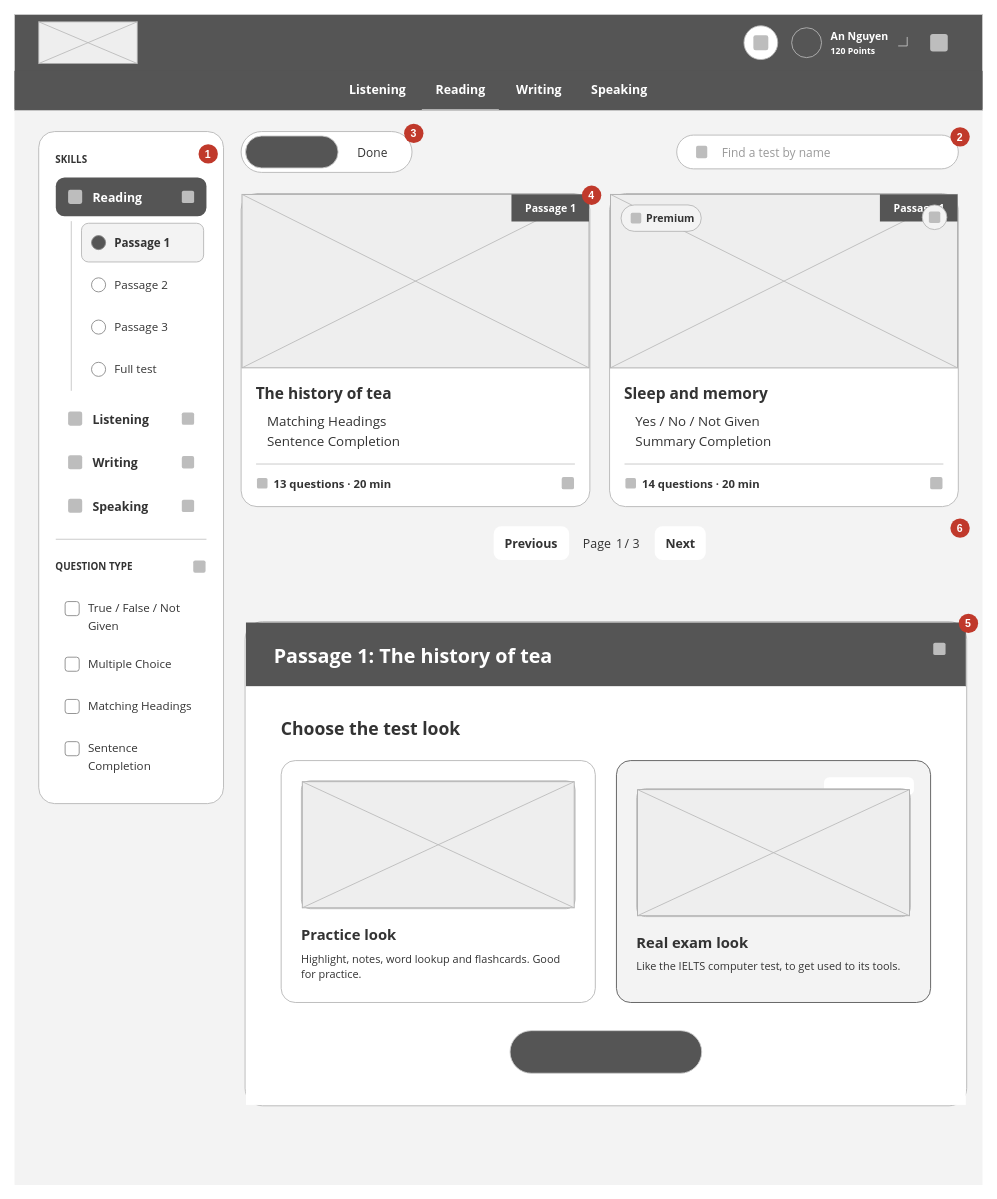
The diagram is 997 pixels wide and 1199 high, and some of its shapes have lost their labels. The shapes that lost their labels are listed below. From the top down, each one's centre as x and y in pixels, then its label:
point (806, 42): AN
point (291, 151): Not done
point (868, 786): Like the real test
point (605, 1051): START THE TEST
